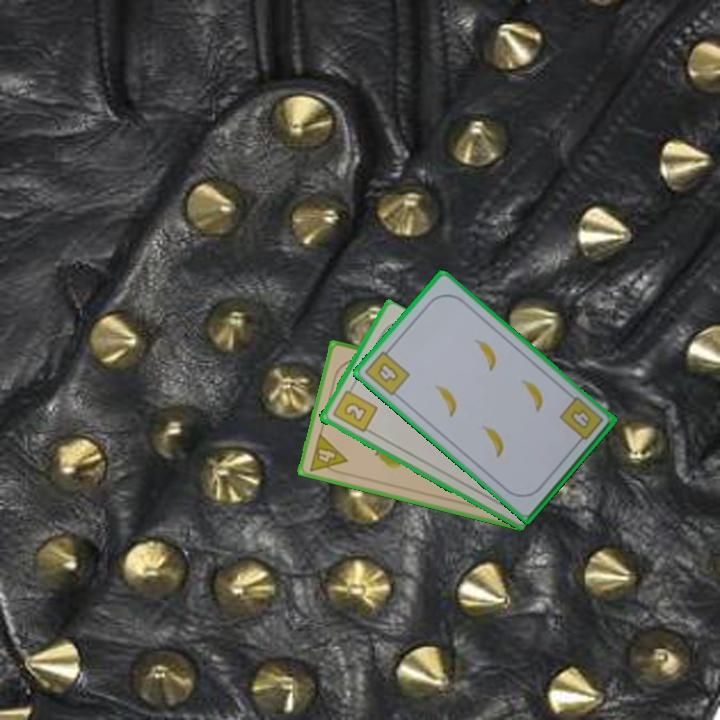2b: (329, 382, 380, 435)
4b: (361, 343, 413, 399), (556, 393, 606, 448)
4p: (306, 430, 350, 478)
